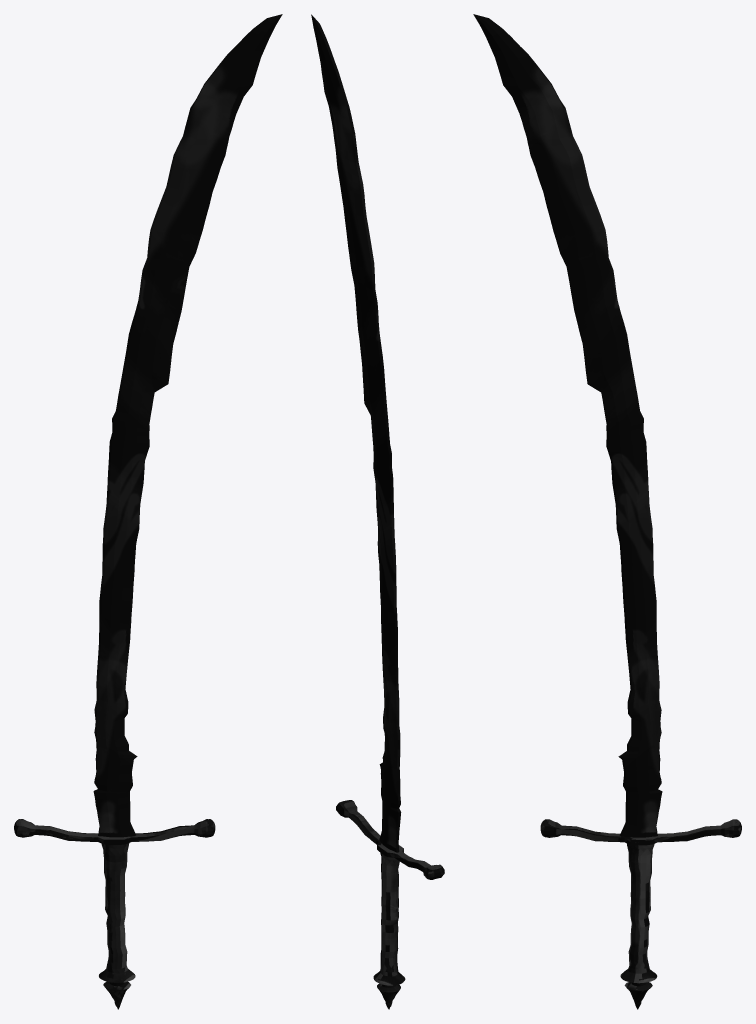
File: shadow_blade.obj
3 views of the same model, side by side, from view 1: azimuth 90°, elevation 25°; view 2: azimuth 210°, elevation 25°; view 3: azimuth 270°, elevation 25° (orthographic). The views are drawn at different scales.
Parts seen in each view (by area): view 1: Circle_Circle.001, handle_Cylinder, guard_Circle.003; view 2: Circle_Circle.001, handle_Cylinder, guard_Circle.003; view 3: Circle_Circle.001, handle_Cylinder, guard_Circle.003.
Boxes of the visible parts, box(x1,y1,x2,y2) form: Circle_Circle.001: box(93, 14, 282, 837); handle_Cylinder: box(99, 843, 135, 1009); guard_Circle.003: box(14, 819, 215, 844); Circle_Circle.001: box(311, 14, 401, 852); handle_Cylinder: box(373, 853, 405, 1009); guard_Circle.003: box(336, 800, 444, 879); Circle_Circle.001: box(473, 14, 662, 837); handle_Cylinder: box(620, 843, 657, 1009); guard_Circle.003: box(540, 819, 741, 845).
Bounding box in the file's own units: 0.7311 × 24.57 × 6.01.
